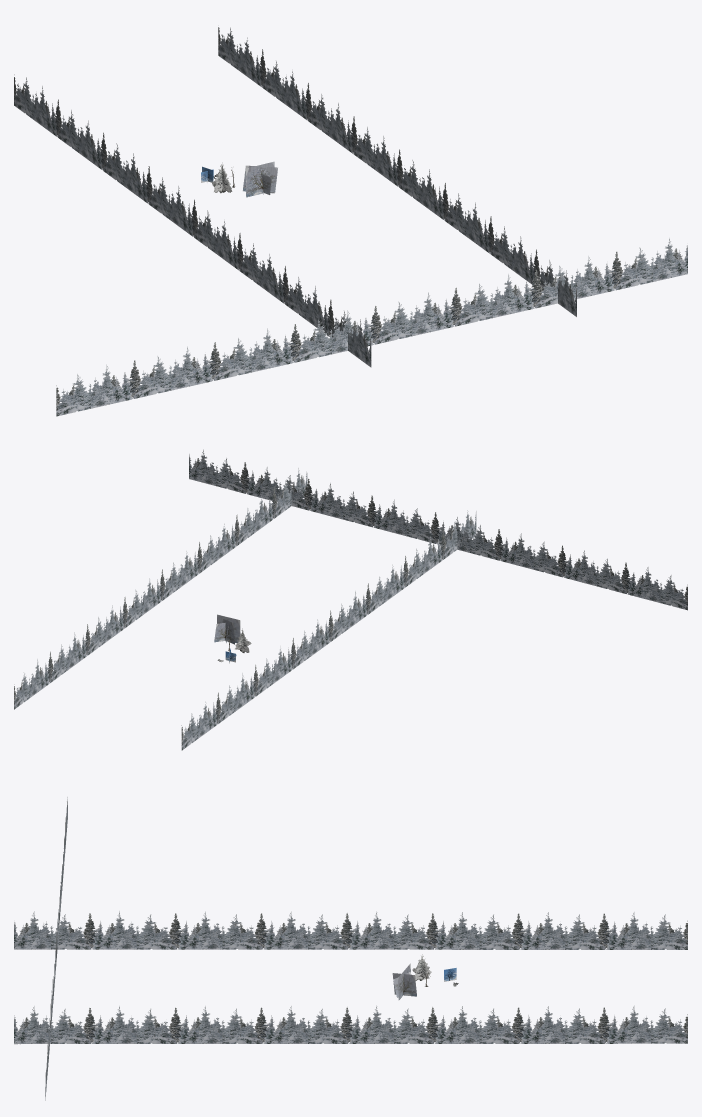
Rendered from SnowTrees.fbx.
3 views of the same model, one above another, from view 1: azimuth 30°, elevation 25°; view 2: azimuth 150°, elevation 25°; view 3: azimuth 270°, elevation 25° (orthographic). The views are drawn at different scales.
Parts seen in each view (by area): view 1: treeline.001, treeline, deadtreehero; view 2: treeline.001, treeline, deadtreehero; view 3: treeline.001, treeline, deadtreehero.
Part boxes in pixels (x1,y1,x2,y2): treeline.001: [56, 27, 687, 416]; treeline: [14, 74, 371, 367]; deadtreehero: [242, 161, 277, 197]; treeline.001: [14, 449, 687, 709]; treeline: [181, 510, 476, 750]; deadtreehero: [214, 614, 240, 644]; treeline.001: [14, 797, 687, 1100]; treeline: [14, 911, 687, 949]; deadtreehero: [392, 963, 416, 1000].
Size of the model in its own units: 46880 by 3106 by 46906.
